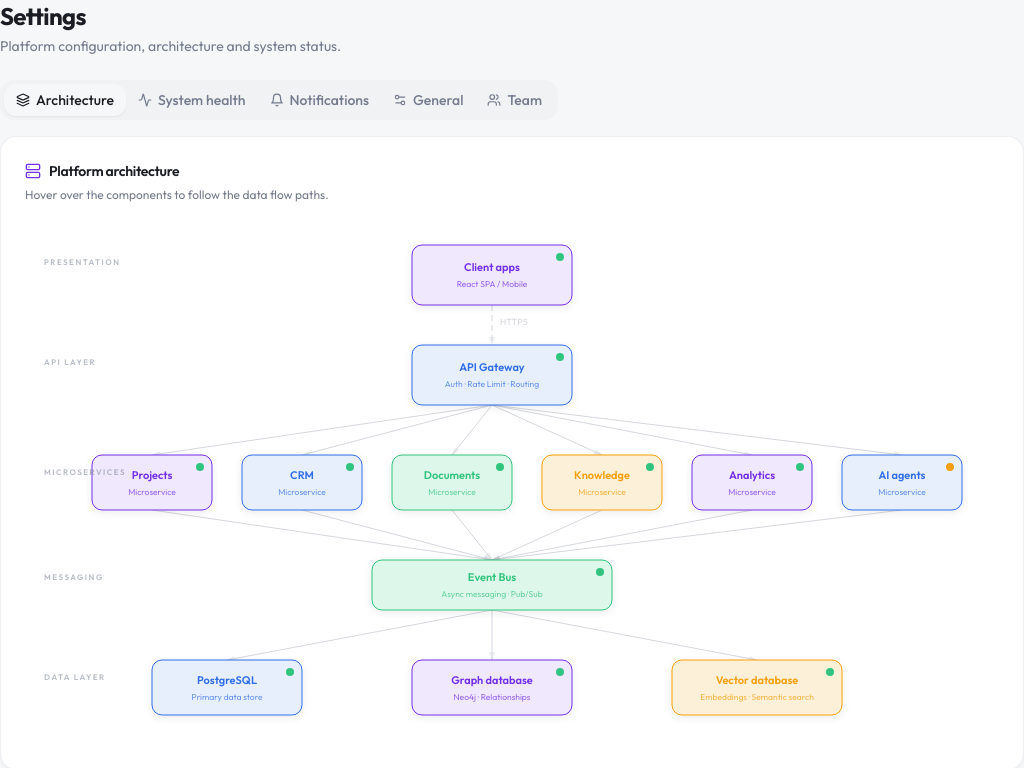
Test: Settings in English › notifications › turns everything off from the master switch
Press the mouse on the tab "Notifications": (319, 100) [258,84,381,116]
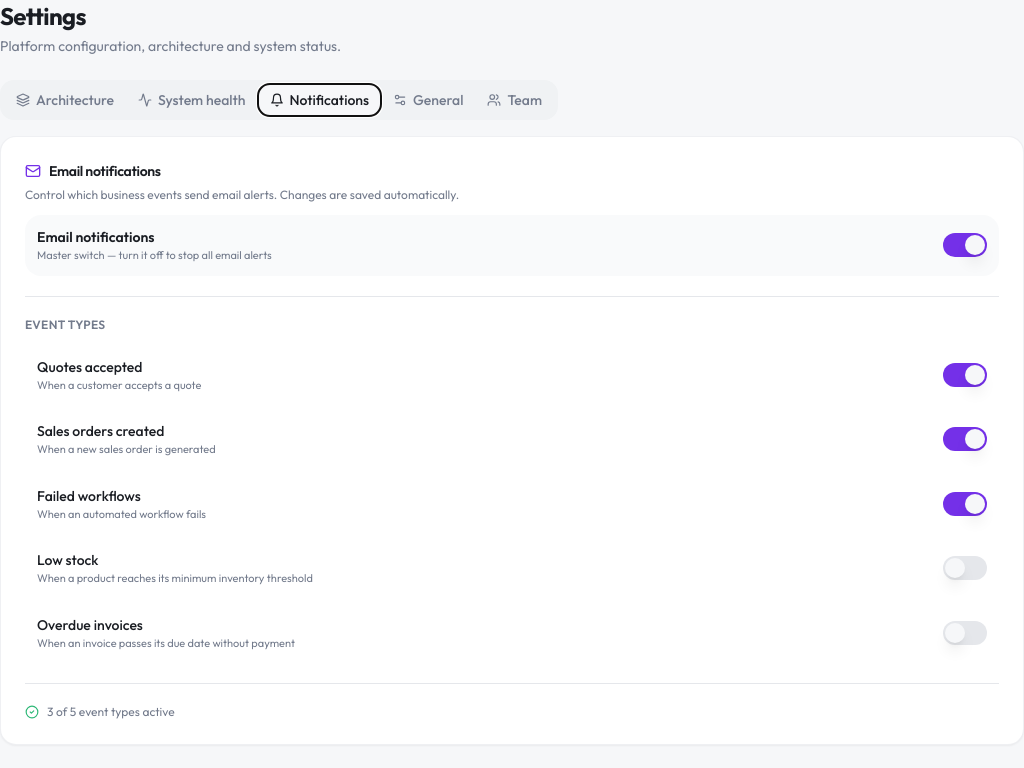
Click the switch named "Email notifications": (965, 245) [943,233,987,257]
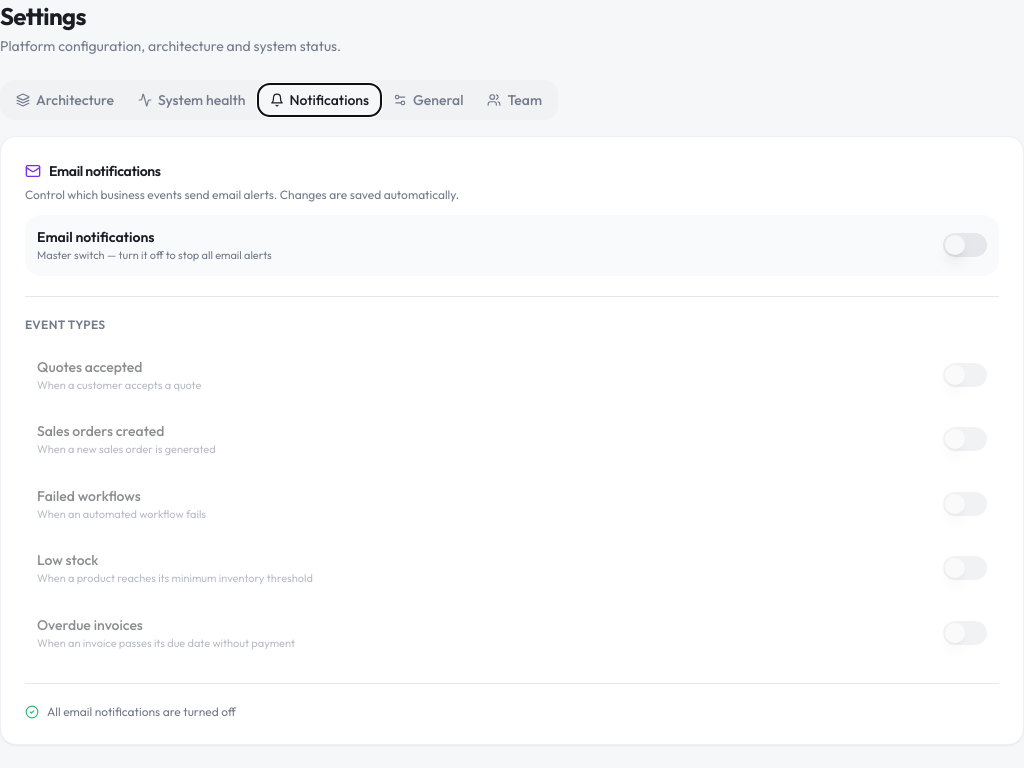
Now the text "All email notifications are turned off" is shown, box [47,704,236,720]
